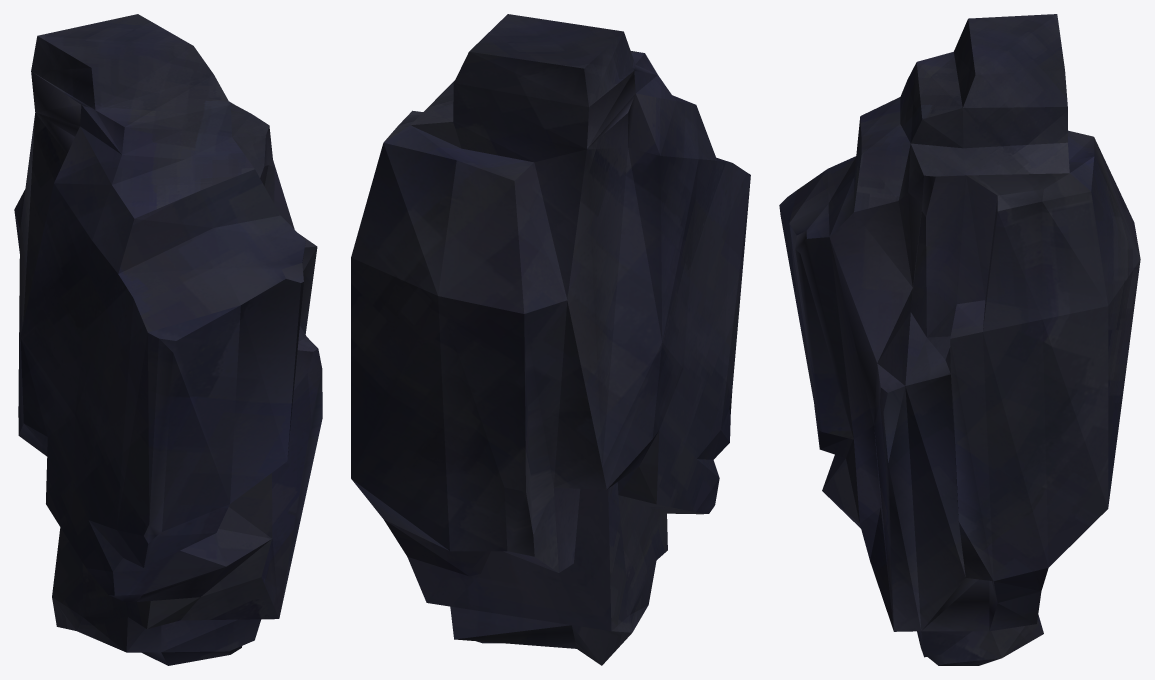
Rendered from cliff.fbx.
3 views of the same model, side by side, from view 1: azimuth 30°, elevation 25°; view 2: azimuth 150°, elevation 25°; view 3: azimuth 270°, elevation 25° (orthographic). The views are drawn at different scales.
Parts seen in each view (by area): view 1: pCube5; view 2: pCube5; view 3: pCube5.
Boxes of the visible parts, bbox=[...] form: pCube5: bbox=[14, 14, 322, 665]; pCube5: bbox=[351, 14, 750, 665]; pCube5: bbox=[779, 14, 1140, 665].
Size of the model in its own units: 564 by 1207 by 673.
